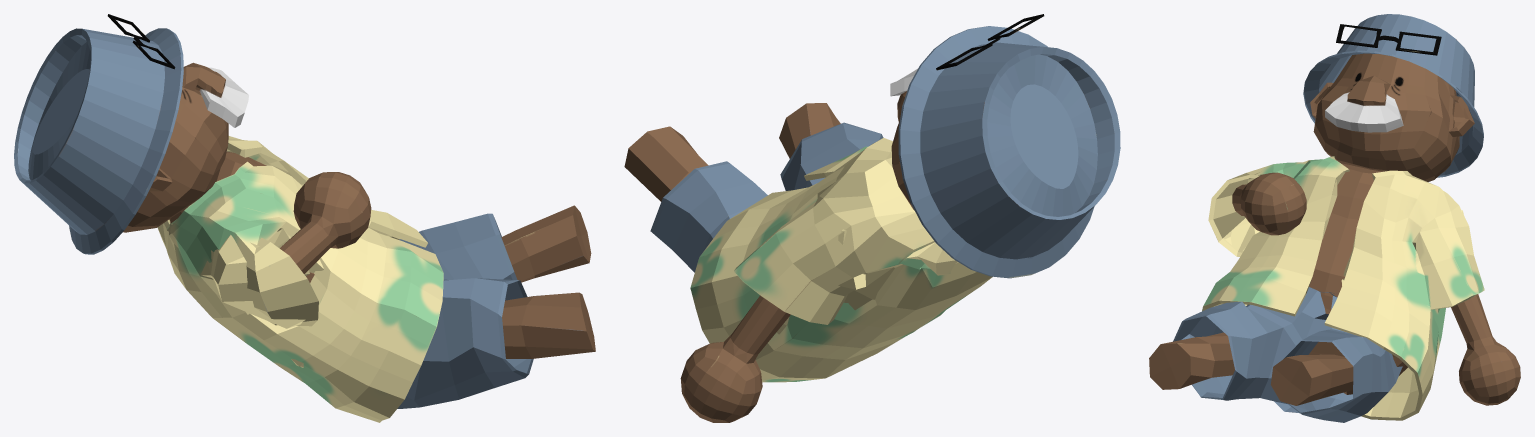
Rendered from pedroBaked.glb.
3 renders of one model, left to right at view 1: azimuth 30°, elevation 25°; view 2: azimuth 150°, elevation 25°; view 3: azimuth 270°, elevation 25°, orthographic. The views are drawn at different scales.
Visible parts, largest first — view 1: pedro; view 2: pedro; view 3: pedro.
Boxes of the visible parts, x1,y1,x2,y2 form: pedro: (14,14,595,422); pedro: (624,14,1120,422); pedro: (1149,14,1520,422).
Bounding box in the file's own units: 1.59 × 1.16 × 1.26.
1 material, 1 textured.
